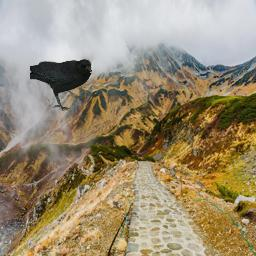Crow: (30, 59, 92, 111)
